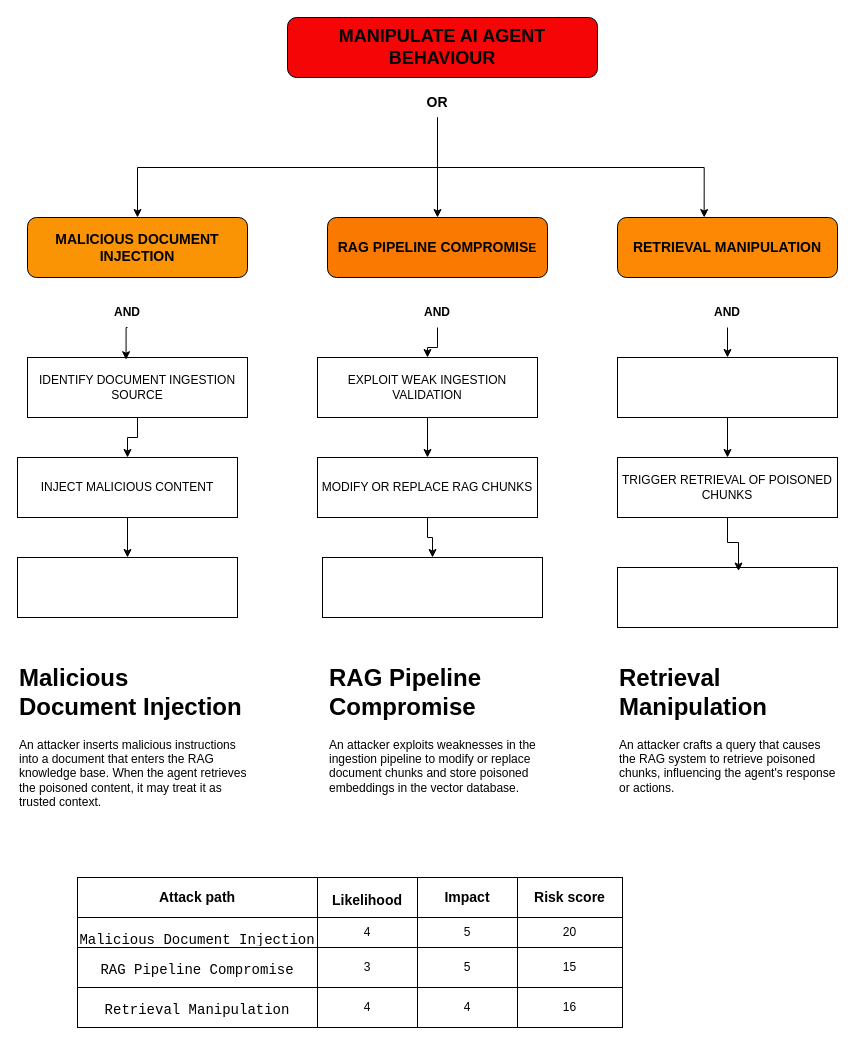
Some shapes in this 855 by 1045 pixel diagram are drawn without their labels. The centre of each missing label's shape, as x and y in pixels:
CRAFT ADVERSARIAL SEARCH QUERY: the point at 727,387
INFLUENCE AGENT RESPONSE OR ACTION: the point at 727,597
POISON RAG KNOWLEDGE BASE: the point at 127,587
STORE POISONED EMBEDDINGS: the point at 432,587
